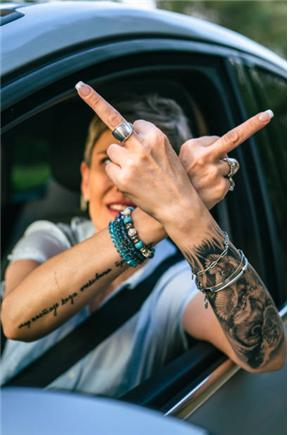insulting_gesture: (73, 77, 279, 233)
